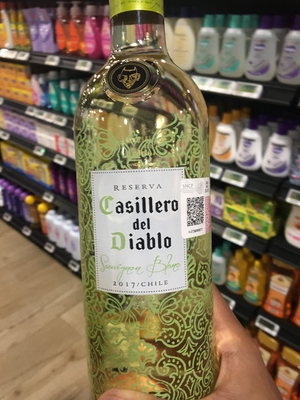casillero del diablo sauvignon blanc: (69, 1, 228, 364)
